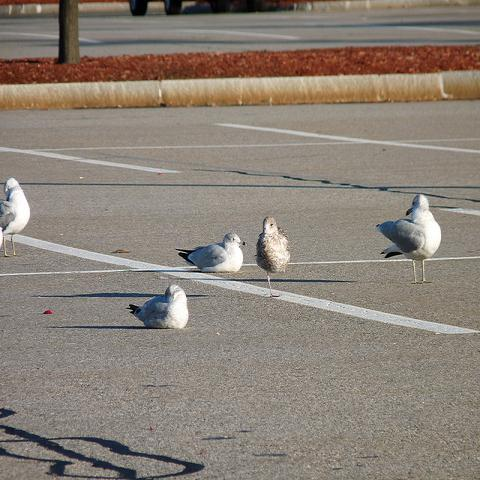car: (124, 0, 232, 21)
